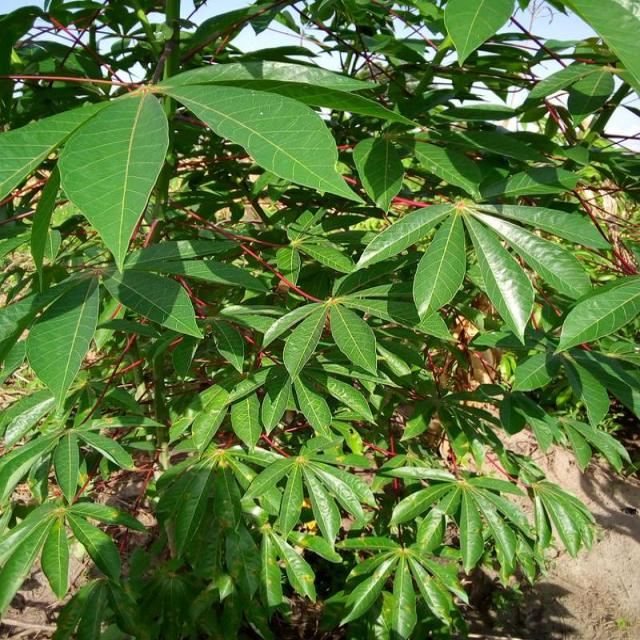cassava leaf: (158, 79, 364, 205), (57, 89, 169, 275)
